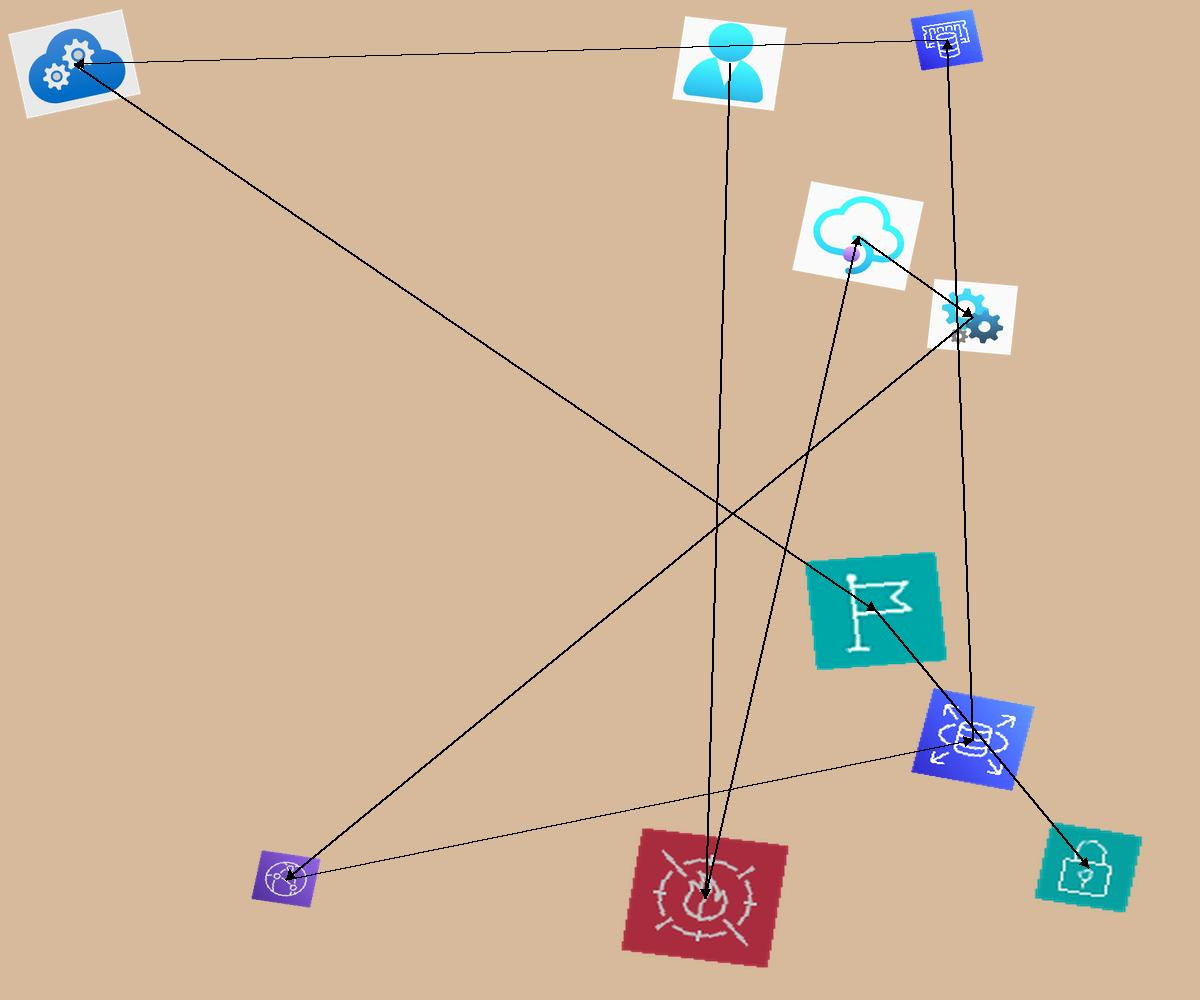AWS-CloudFront: (251, 850, 321, 908)
AWS-ElastiCache: (910, 9, 984, 71)
AWS-Private-subnet: (1033, 821, 1144, 914)
AWS-RDS: (911, 688, 1035, 791)
AWS-Region: (804, 551, 948, 671)
AWS-WAF: (620, 827, 790, 969)
Azure_api: (927, 279, 1018, 355)
Azure_api_gateway: (792, 181, 924, 291)
Azure_cloud_services: (8, 9, 141, 119)
Azure_users: (672, 16, 787, 111)
